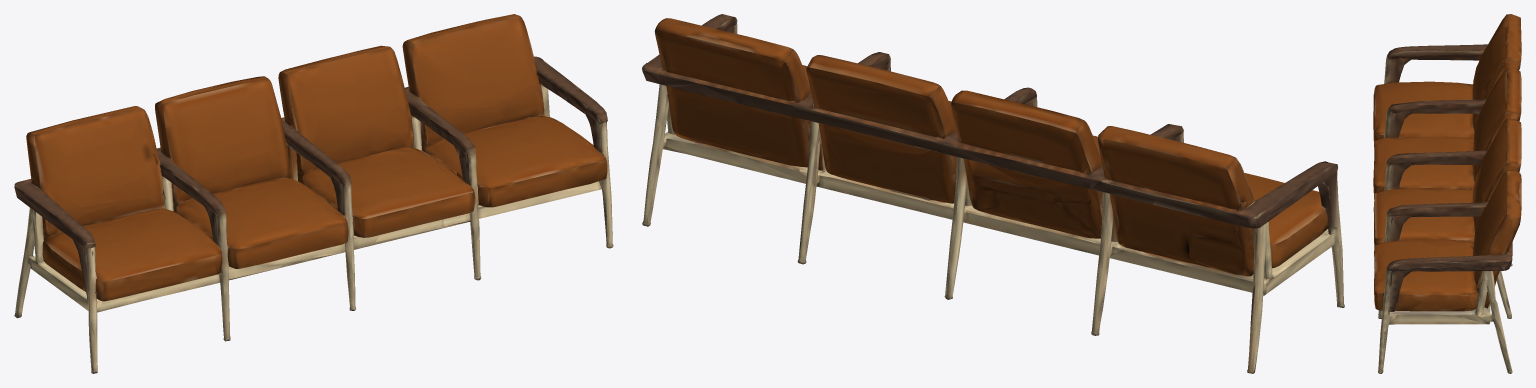
The model's file is term_seating.glb.
3 renders of one model, left to right at view 1: azimuth 30°, elevation 25°; view 2: azimuth 150°, elevation 25°; view 3: azimuth 270°, elevation 25°, orthographic. The views are drawn at different scales.
Parts seen in each view (by area): view 1: LO; view 2: LO; view 3: LO.
Part boxes in pixels (<box>): LO: <box>14,14,613,373</box>; LO: <box>642,14,1344,373</box>; LO: <box>1373,14,1521,373</box>.
Bounding box in the file's own units: 2.6 × 0.8558 × 0.7491.
Materials: 1 (1 with a texture image).
